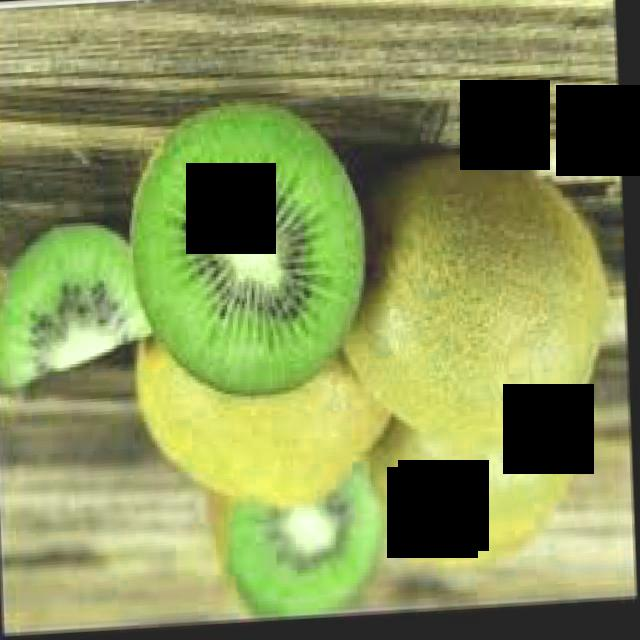kiwi: (321, 152, 614, 469)
